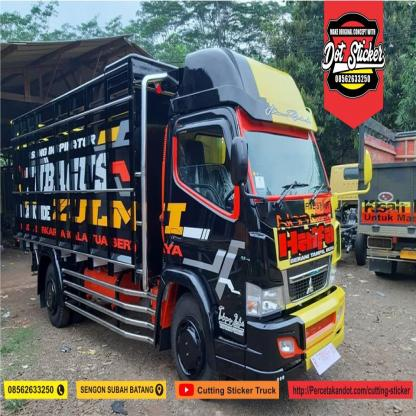truck: (13, 54, 370, 384)
